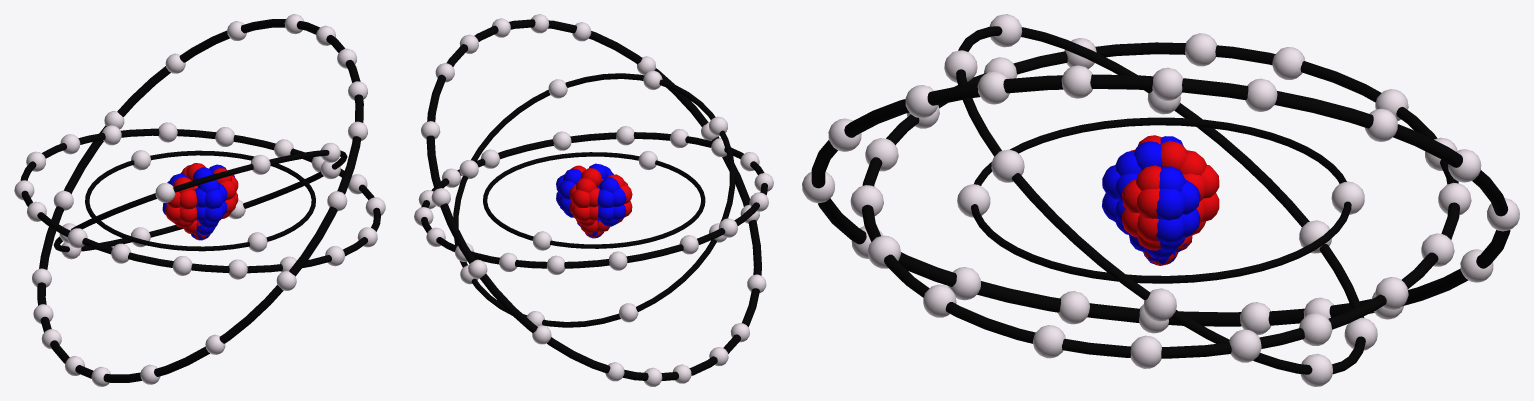
Rendered from 46 Paladio.fbx.
3 views of the same model, side by side, from view 1: azimuth 30°, elevation 25°; view 2: azimuth 150°, elevation 25°; view 3: azimuth 270°, elevation 25° (orthographic). The views are drawn at different scales.
Visible parts, largest first — view 1: Orbita.004, Orbita.003, Sphere.006, Orbita.002, Orbita.001, Electron.028, Electron, Electron.009, Electron.024, Electron.012, Electron.015, Electron.001; view 2: Orbita.004, Sphere.006, Orbita.002, Orbita.003, Orbita.001; view 3: Orbita.004, Orbita.003, Sphere.006, Orbita.002, Orbita.001, Electron.029, Electron.008, Electron.016, Electron.030, Electron.022, Electron.042, Electron.047 (+30 smaller).
Boxes of the visible parts, left/top/right/bottom form: Orbita.004: left=37, top=19, right=363, bottom=382; Orbita.003: left=20, top=128, right=380, bottom=273; Sphere.006: left=162, top=163, right=238, bottom=240; Orbita.002: left=53, top=150, right=347, bottom=252; Orbita.001: left=85, top=150, right=315, bottom=251; Electron.028: left=228, top=259, right=247, bottom=279; Electron: left=247, top=232, right=267, bottom=252; Electron.009: left=155, top=183, right=175, bottom=202; Electron.024: left=158, top=122, right=177, bottom=142; Electron.012: left=172, top=256, right=192, bottom=275; Electron.015: left=215, top=127, right=234, bottom=146; Electron.001: left=131, top=150, right=150, bottom=170; Orbita.004: left=426, top=19, right=761, bottom=380; Sphere.006: left=556, top=163, right=632, bottom=238; Orbita.002: left=453, top=73, right=735, bottom=327; Orbita.003: left=421, top=132, right=767, bottom=268; Orbita.001: left=483, top=152, right=705, bottom=248; Orbita.004: left=811, top=74, right=1510, bottom=326; Orbita.003: left=862, top=42, right=1459, bottom=358; Sphere.006: left=1102, top=135, right=1219, bottom=265; Orbita.002: left=956, top=26, right=1365, bottom=374; Orbita.001: left=971, top=117, right=1351, bottom=283; Electron.029: left=1185, top=33, right=1216, bottom=66; Electron.008: left=1143, top=288, right=1176, bottom=321; Electron.016: left=1229, top=329, right=1261, bottom=362; Electron.030: left=1130, top=335, right=1161, bottom=368; Electron.022: left=1033, top=325, right=1065, bottom=358; Electron.042: left=1245, top=78, right=1277, bottom=111; Electron.047: left=1152, top=67, right=1182, bottom=100.
Bounding box in the file's own units: 14.54 × 12.43 × 10.47.
